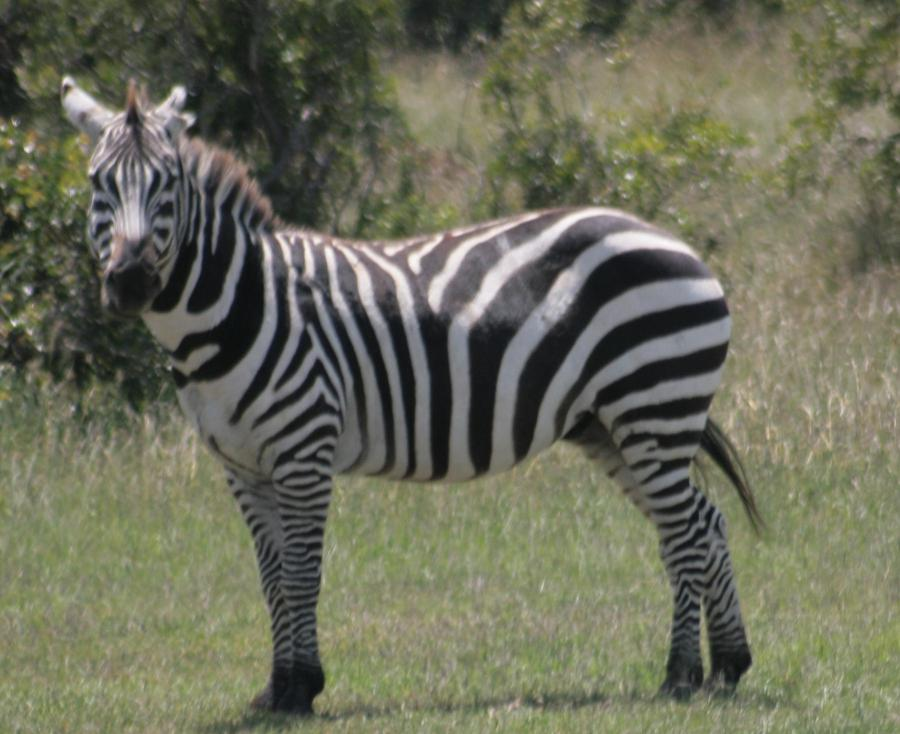zebra_plains: (202, 190, 750, 486)
